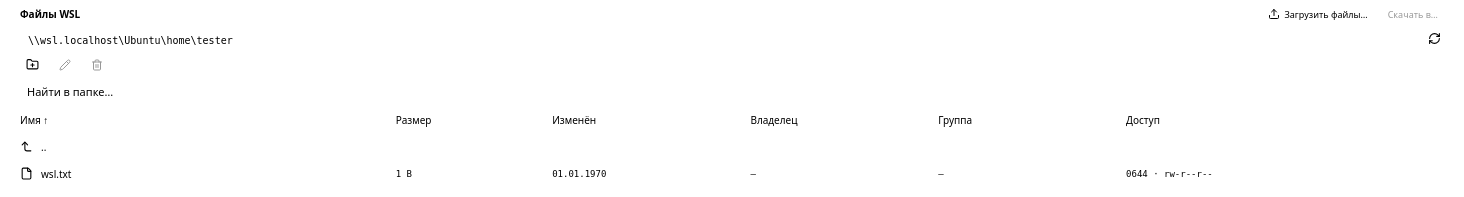
Test: uses the WSL distribution file root and enables its supported file actions
The width and height of the screenshot is (1464, 197).
Click the text "wsl.txt": {"x": 56, "y": 174} top-left (41, 166), bottom-right (71, 180)
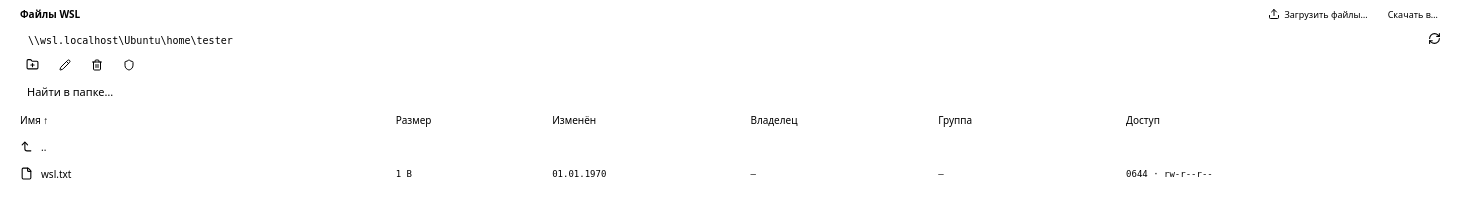
Check: the button named "Изменить права доступа" is enabled, box top-left (117, 56), bottom-right (141, 76)
